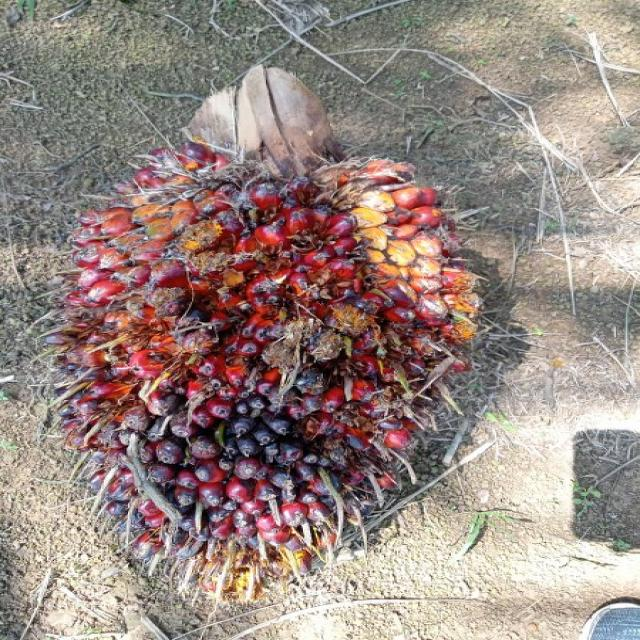fraksi 3: (12, 58, 536, 597)
